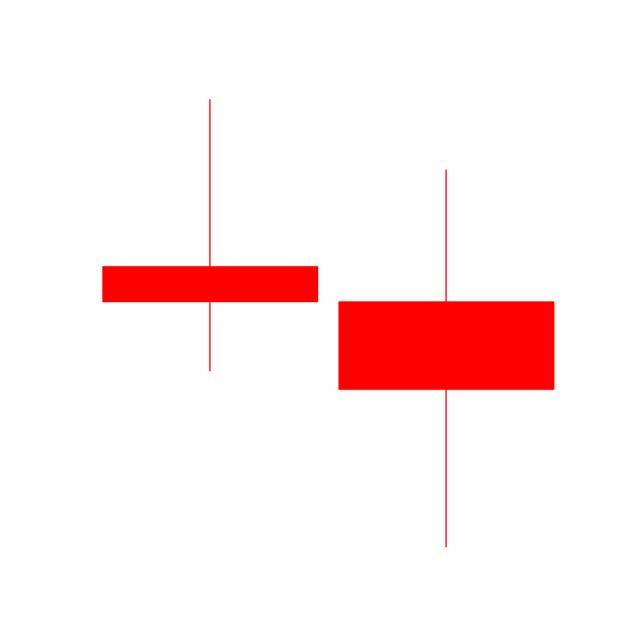Spinning Top: (328, 166, 566, 553)
